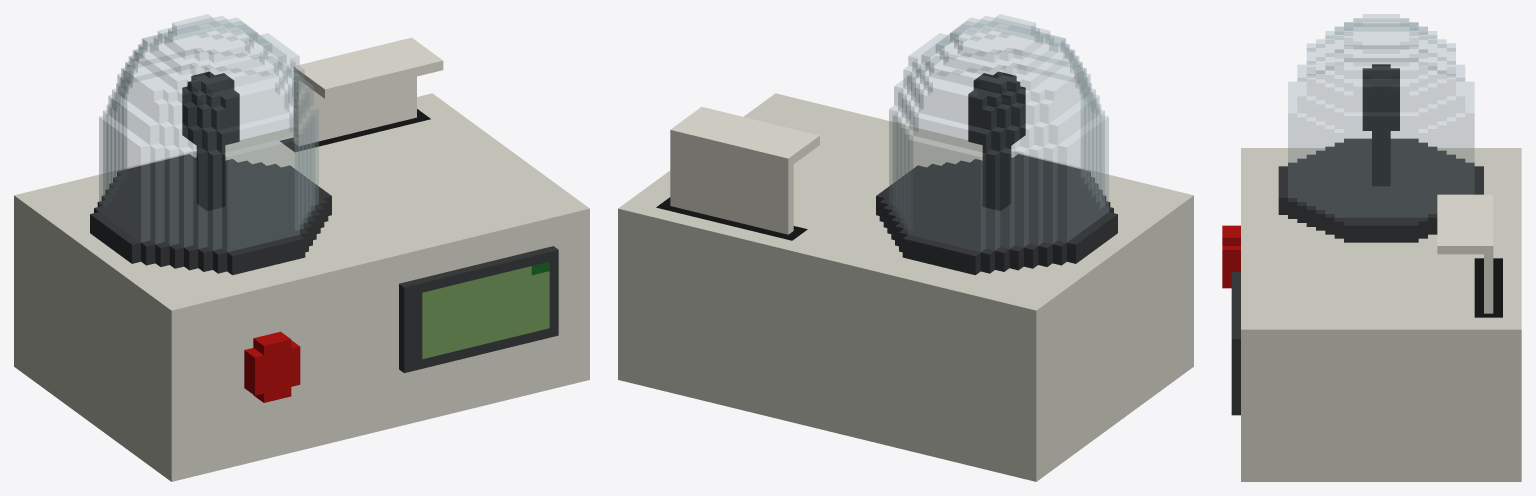
Rendered from nre_recorder.glb.
3 views of the same model, side by side, from view 1: azimuth 30°, elevation 25°; view 2: azimuth 150°, elevation 25°; view 3: azimuth 270°, elevation 25° (orthographic). The views are drawn at different scales.
Visible parts, largest first — view 1: nre_recorder:compound; view 2: nre_recorder:compound; view 3: nre_recorder:compound.
Part boxes in pixels (x1,y1,x2,y2): nre_recorder:compound: [14, 14, 589, 481]; nre_recorder:compound: [618, 14, 1193, 481]; nre_recorder:compound: [1222, 14, 1521, 481].
Bounding box in the file's own units: 0.184 × 0.152 × 0.128.
